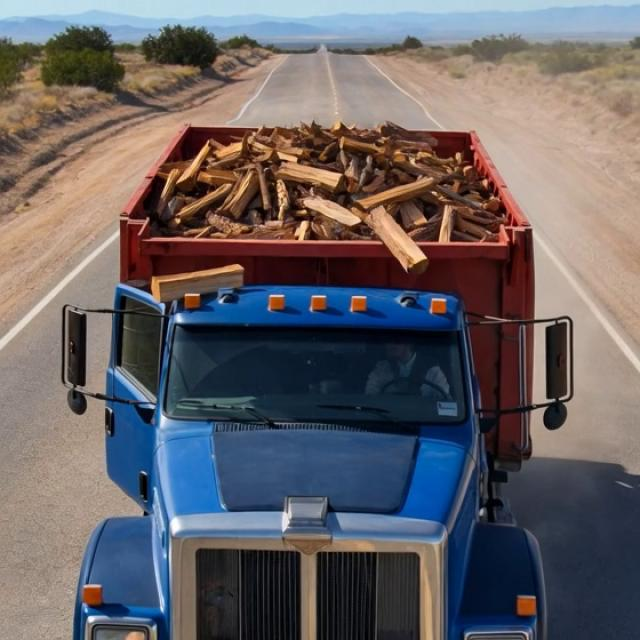trailer: (119, 98, 541, 284)
truck: (55, 83, 608, 634)
